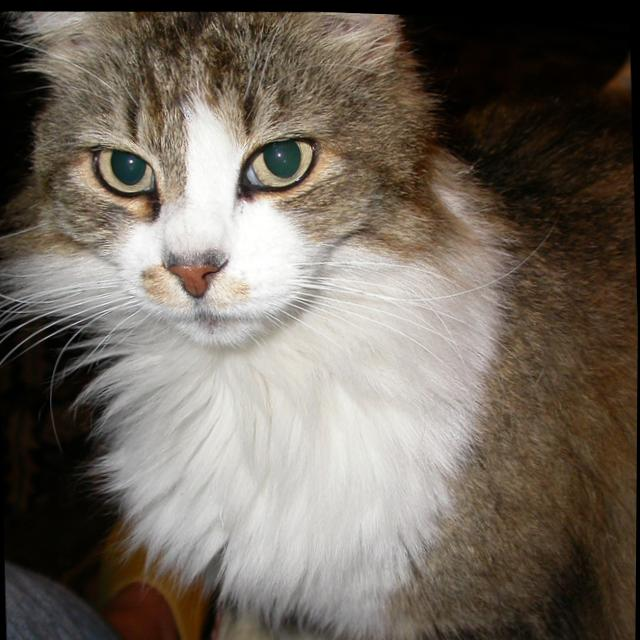animals: (6, 0, 402, 305)
